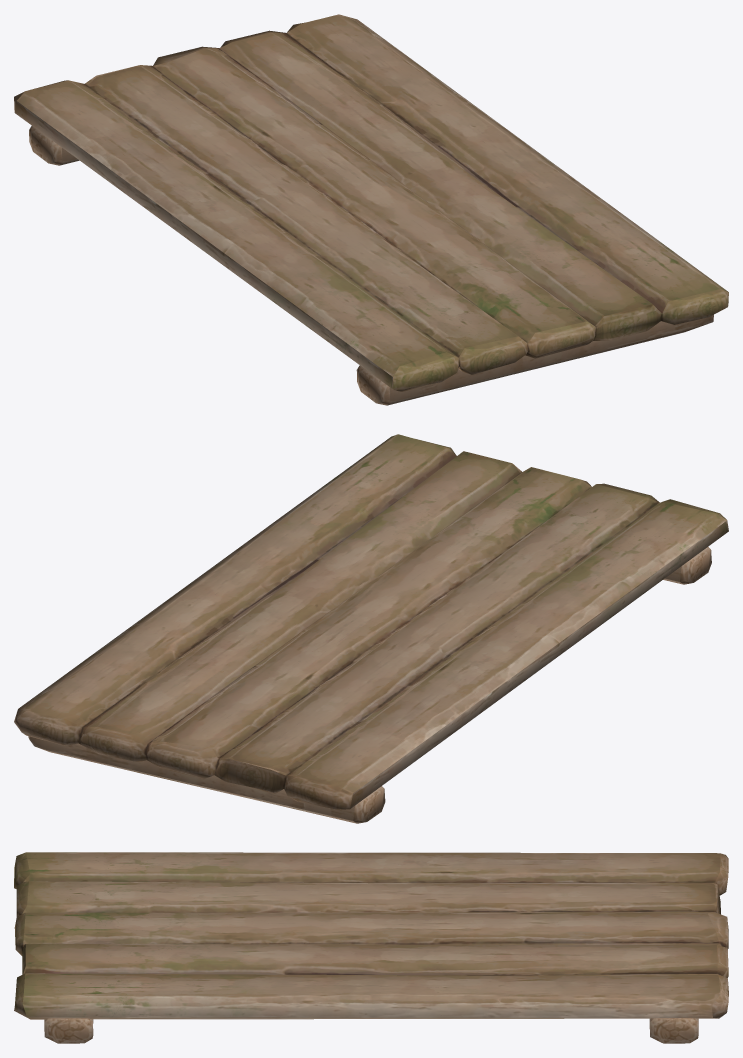
File: Scaffolding_01.fbx
The picture shows the model from 3 angles, top to bottom: view 1: azimuth 30°, elevation 25°; view 2: azimuth 150°, elevation 25°; view 3: azimuth 270°, elevation 25°; orthographic projection. The views are drawn at different scales.
Visible parts, largest first — view 1: Scaffolding_01; view 2: Scaffolding_01; view 3: Scaffolding_01.
Part boxes in pixels (x1,y1,x2,y2): Scaffolding_01: [14, 14, 728, 405]; Scaffolding_01: [14, 434, 728, 823]; Scaffolding_01: [14, 852, 728, 1043].
Size of the model in its own units: 1 by 0.1407 by 1.98.
